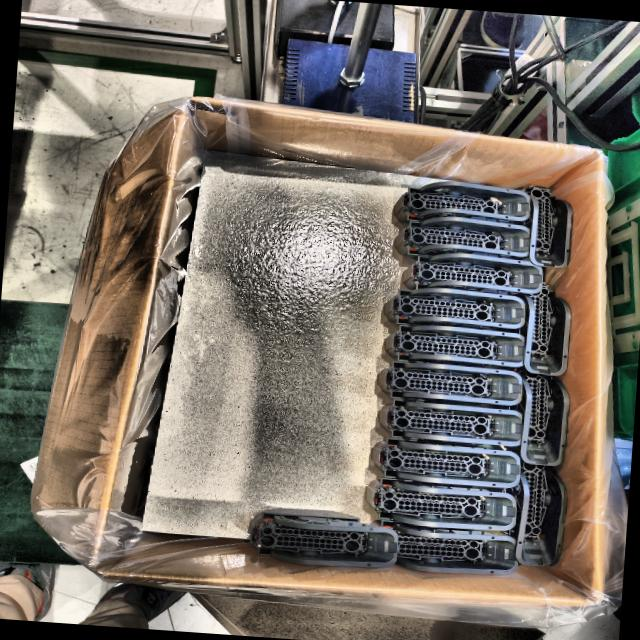P38: (250, 509, 397, 568), (365, 478, 516, 531), (380, 519, 518, 574), (370, 438, 520, 488), (377, 400, 523, 445), (377, 361, 523, 405), (507, 464, 567, 568), (394, 216, 531, 260), (384, 325, 526, 367), (383, 288, 528, 329), (400, 253, 543, 294), (393, 181, 530, 223), (521, 281, 571, 376), (520, 375, 570, 466), (520, 185, 574, 268)
